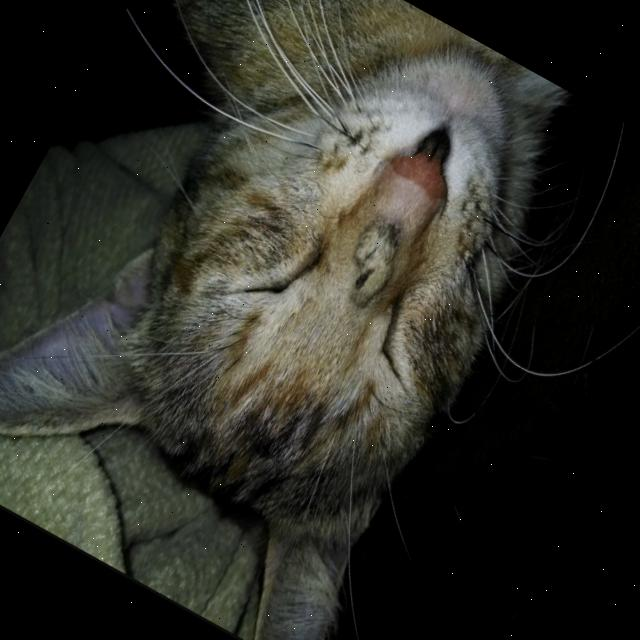cat-lump-and-bump: (328, 210, 418, 317)
